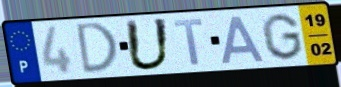4: (41, 23, 78, 78)
A: (220, 14, 268, 66)
D: (75, 21, 120, 77)
G: (259, 11, 305, 62)
T: (171, 17, 205, 68)
U: (123, 17, 173, 73)
